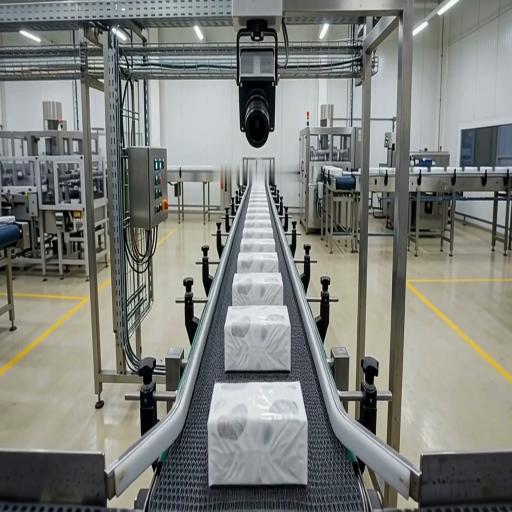good: (206, 376, 309, 491), (223, 303, 292, 375), (231, 271, 284, 306), (236, 252, 279, 272), (240, 238, 276, 251), (242, 227, 274, 238), (244, 219, 272, 227), (245, 212, 271, 219), (248, 201, 269, 207), (247, 207, 270, 212), (249, 197, 268, 202), (249, 194, 267, 198), (250, 190, 266, 193)
